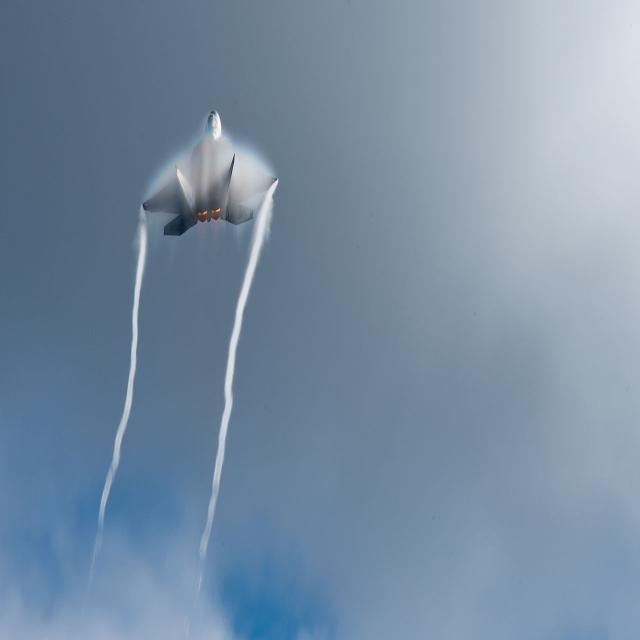MIL_Plane: (142, 110, 278, 236)
